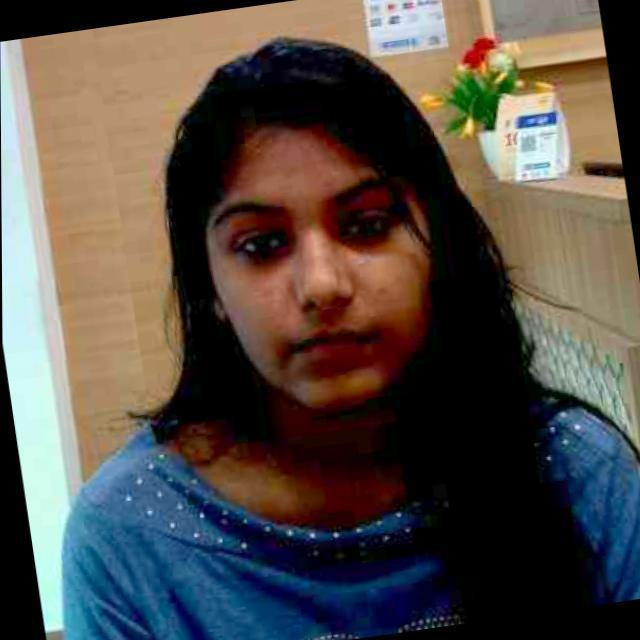puffy_eyes: (330, 216, 393, 249), (248, 231, 297, 270)
